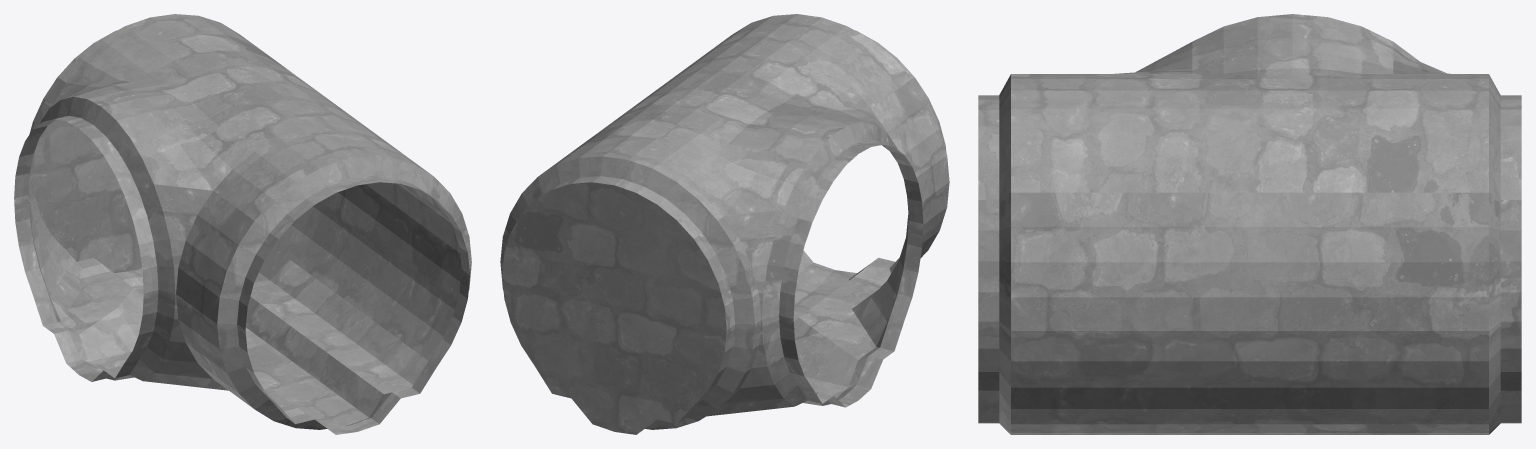
The model's file is PipeLeft.fbx.
The picture shows the model from 3 angles, left to right: view 1: azimuth 30°, elevation 25°; view 2: azimuth 150°, elevation 25°; view 3: azimuth 270°, elevation 25°; orthographic projection. The views are drawn at different scales.
Parts seen in each view (by area): view 1: Cylinder; view 2: Cylinder; view 3: Cylinder.
Boxes of the visible parts, x1=… form: Cylinder: x1=14, y1=14, x2=471, y2=434; Cylinder: x1=500, y1=14, x2=949, y2=434; Cylinder: x1=978, y1=14, x2=1521, y2=434.
Size of the model in its own units: 266 by 244 by 366.
